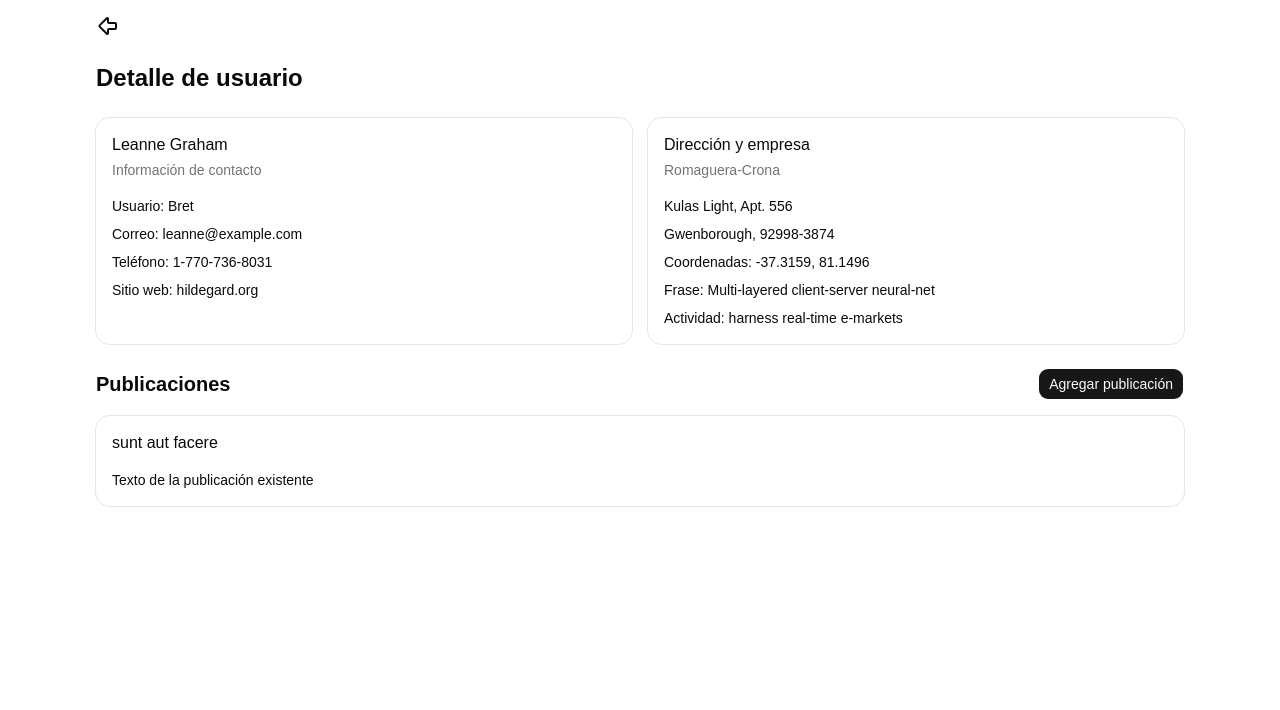
Test case: UserDatil › agrega la publicación validada a la lista local
expect the text "sunt aut facere" is shown: met, box [112, 434, 218, 451]
expect the text "Leanne Graham" is shown: met, box [112, 136, 228, 153]
Click the button "Agregar publicación" at (1111, 384), box [1038, 368, 1184, 400]
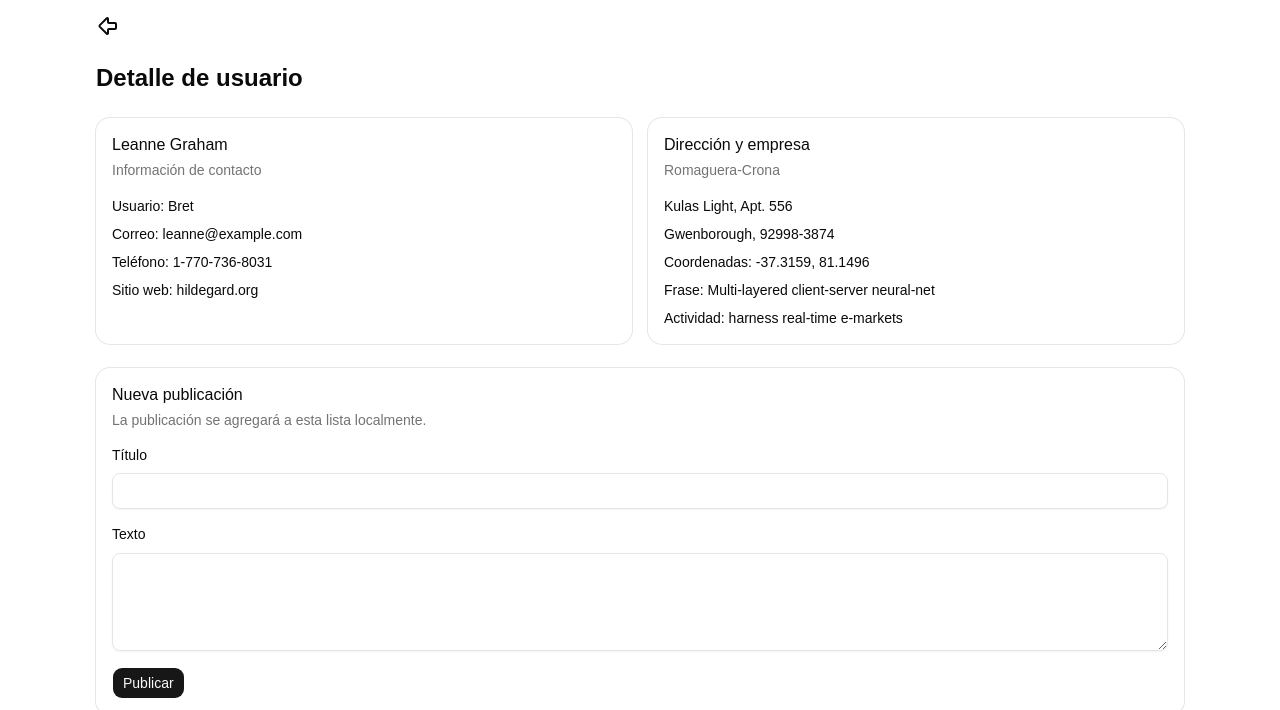
Type "  Nueva publicación  " into the field labelled "Título" at (640, 491), box [112, 473, 1168, 509]
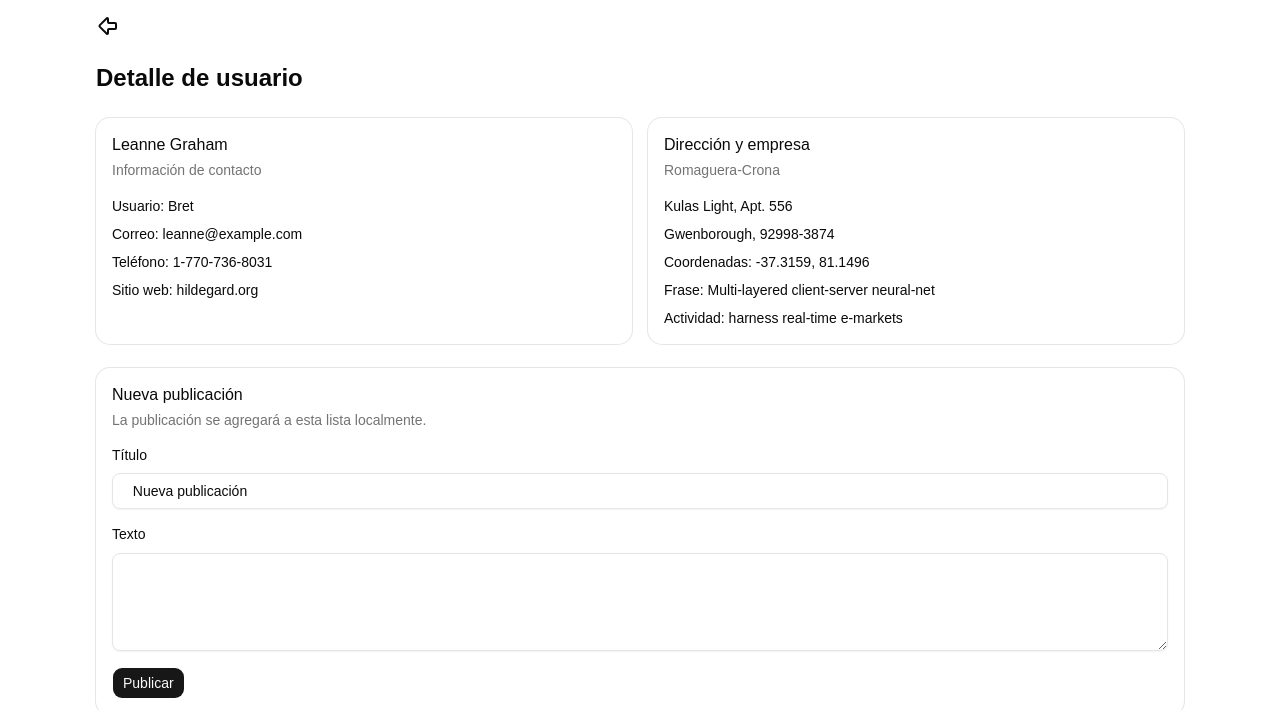
Type "  Contenido nuevo  " into the text box labelled "Texto" at (640, 602), box [112, 552, 1168, 650]
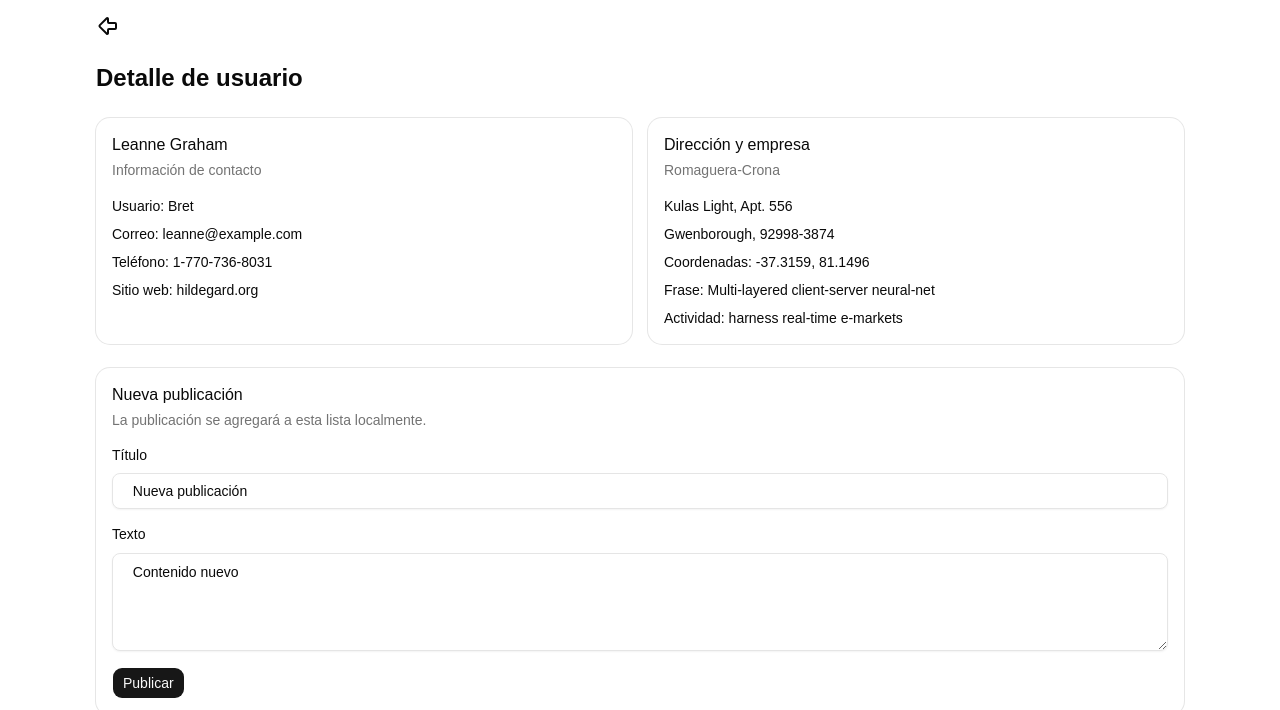
Click the button "Publicar" at (148, 682), box [112, 666, 185, 698]
(page scrolled)
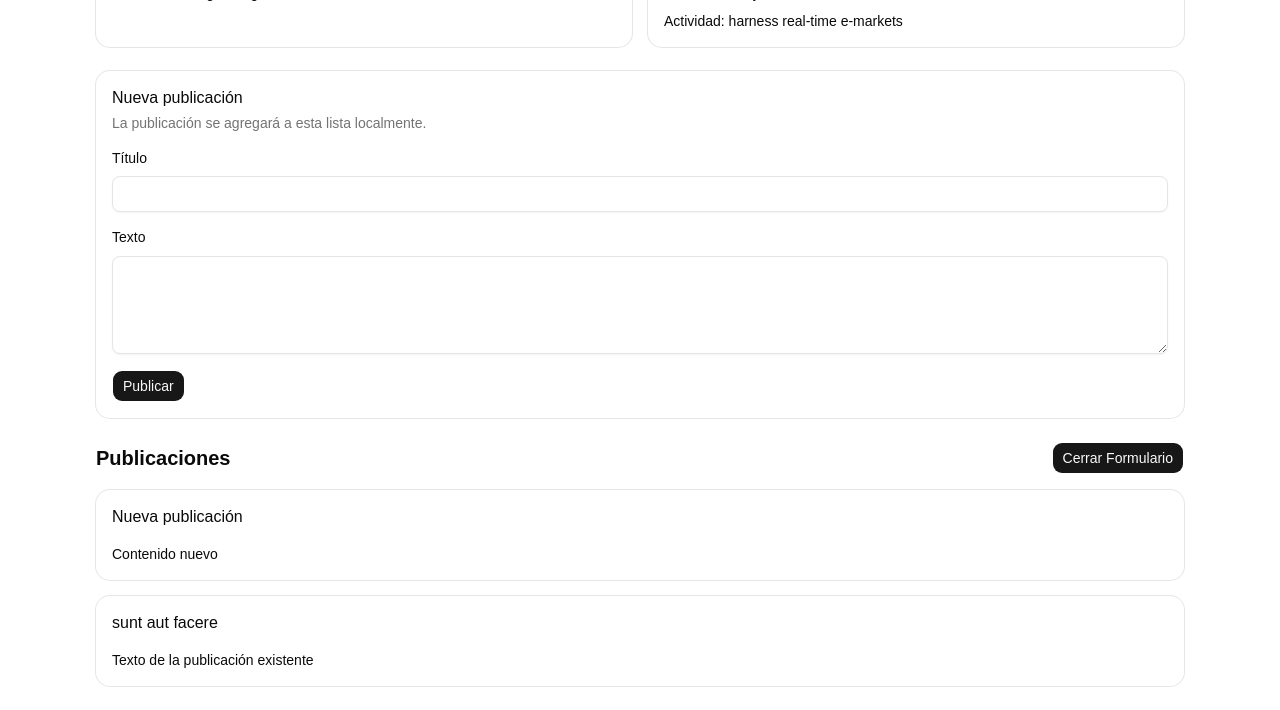
expect the text "Nueva publicación" below "Publicaciones" is shown: met, box [112, 508, 243, 524]
expect the text "Contenido nuevo" is shown: met, box [112, 546, 218, 562]
